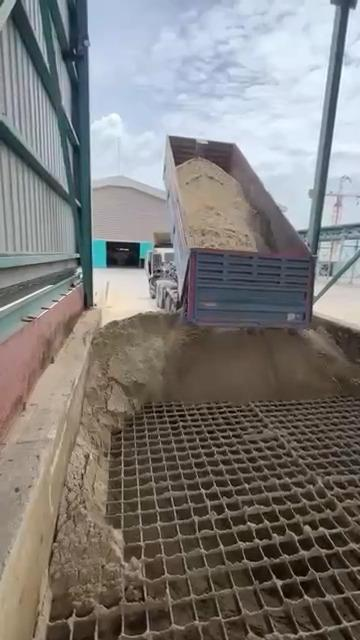sand: (51, 313, 359, 616), (177, 158, 266, 250)
